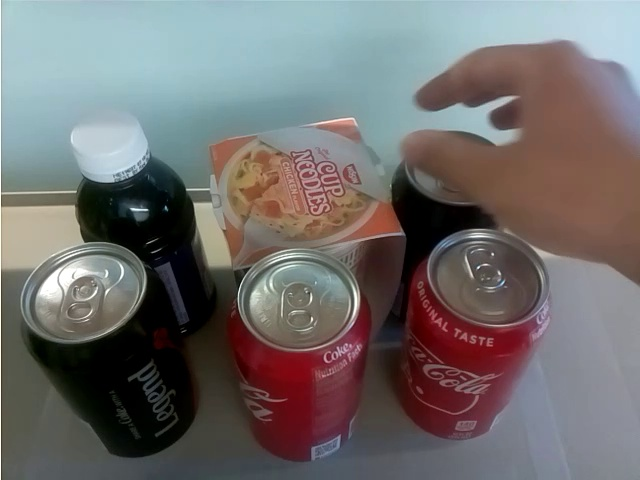cocacola: (15, 238, 200, 460), (392, 226, 550, 443), (229, 247, 369, 466), (392, 143, 504, 239)
hand: (402, 39, 640, 264)
juice: (66, 109, 219, 342)
noodles: (207, 111, 397, 342)
